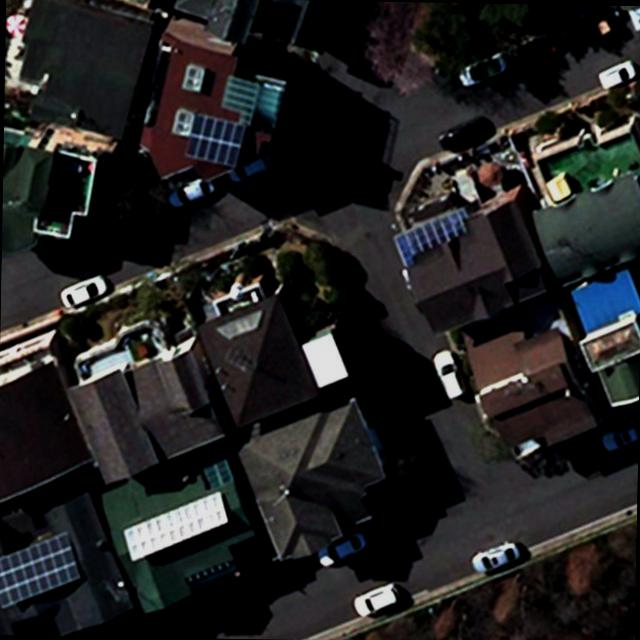solar: (0, 527, 85, 609), (184, 108, 248, 170)
